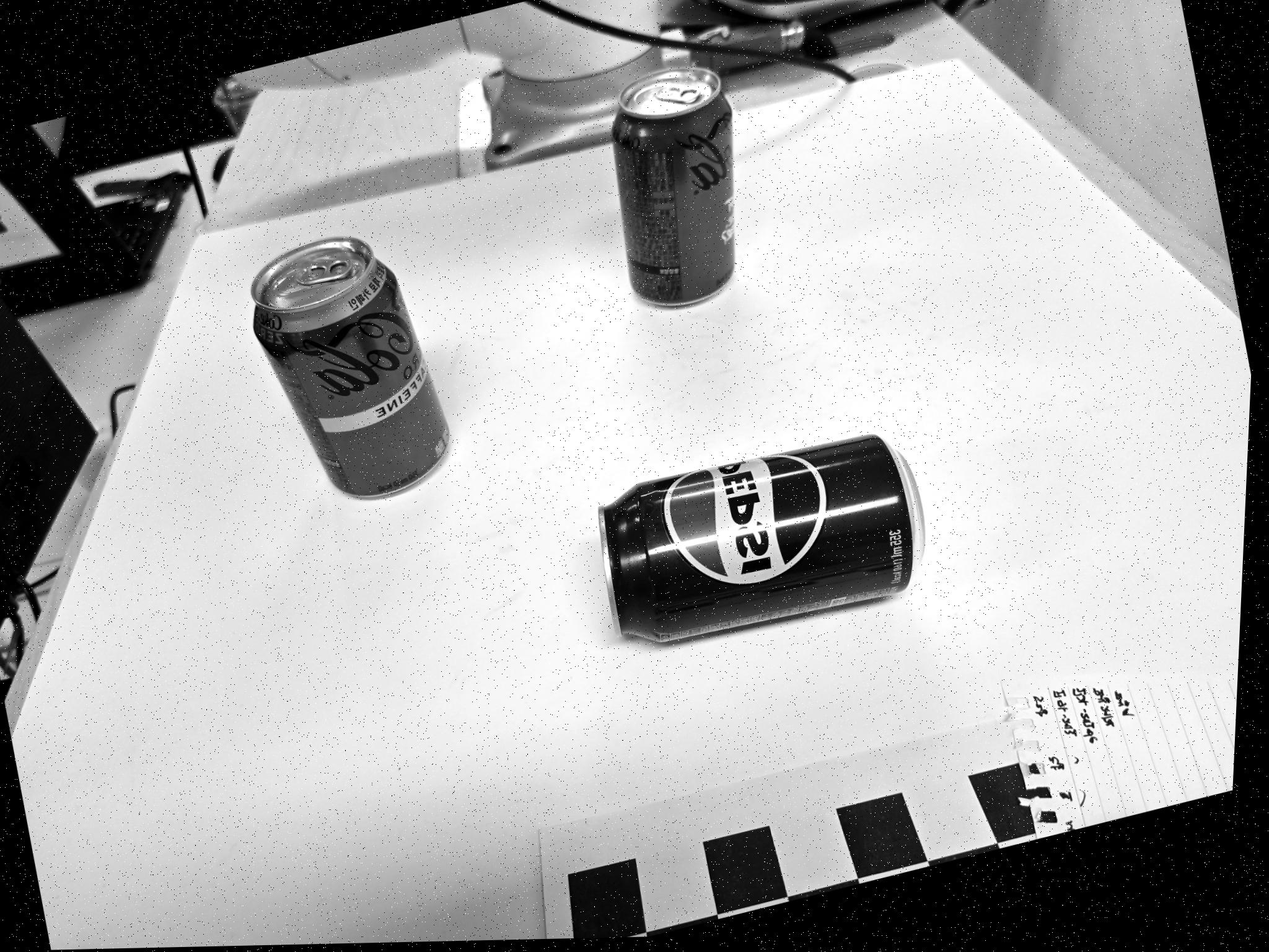can_coke_decaf: (254, 235, 453, 495)
can_coke_zero: (610, 66, 737, 300)
can_pepsi: (594, 434, 926, 647)
